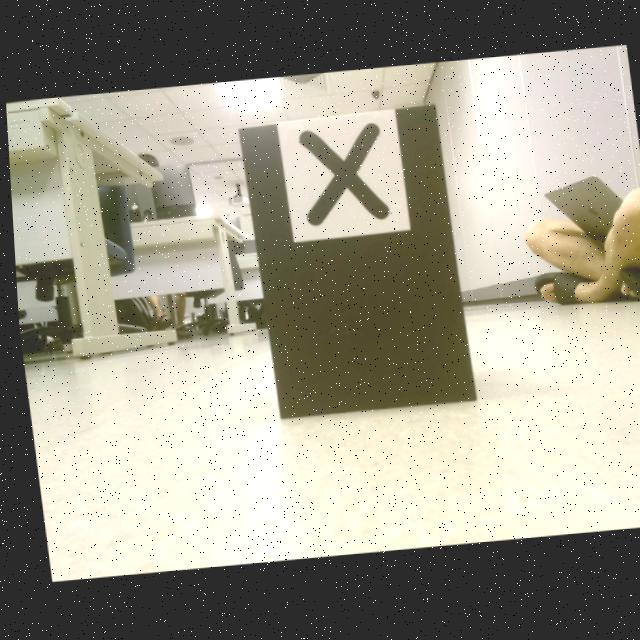X: (296, 123, 388, 228)
